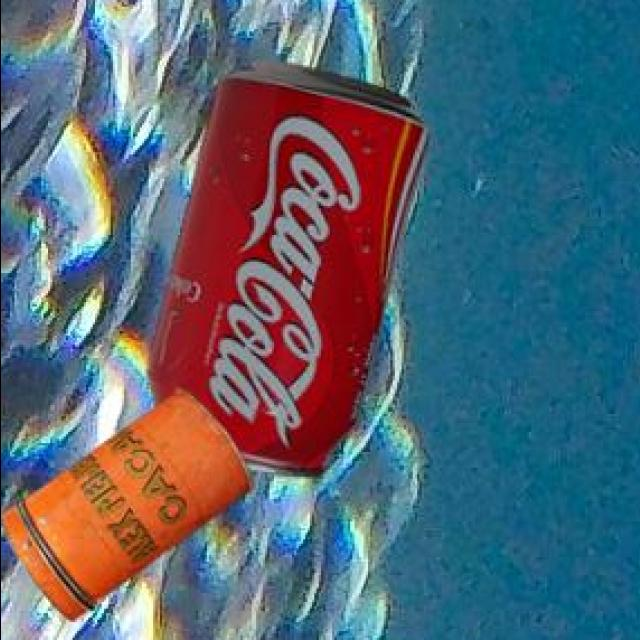logam: (149, 57, 431, 473), (3, 386, 254, 619)
